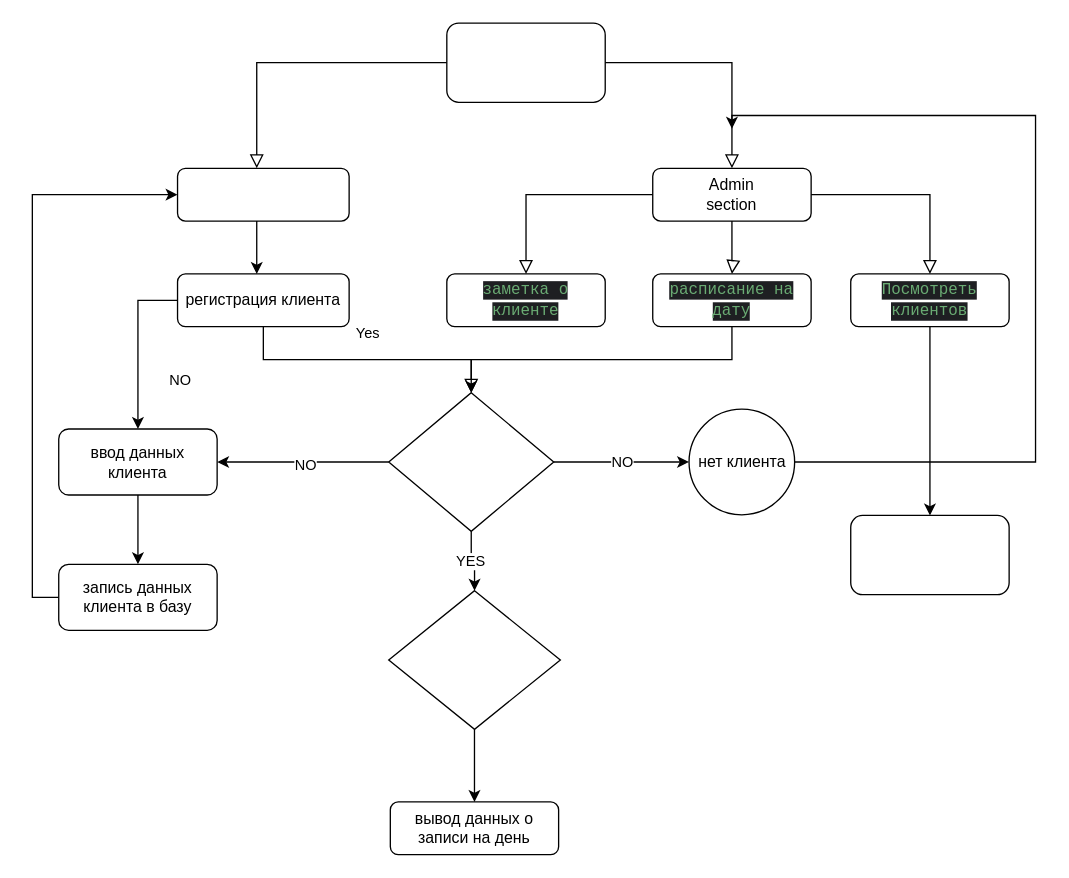
This 1069x878 diagram has some shape labels left out. Here are the shapes that lost their labels. From the top down, the centre of each, then its label:
At (x=525, y=62): "Start".
At (x=262, y=194): "Client section".
At (x=470, y=461): "проверка имени и телефона".
At (x=929, y=554): "print всех клиентов".
At (x=473, y=659): "проверка формата даты".
